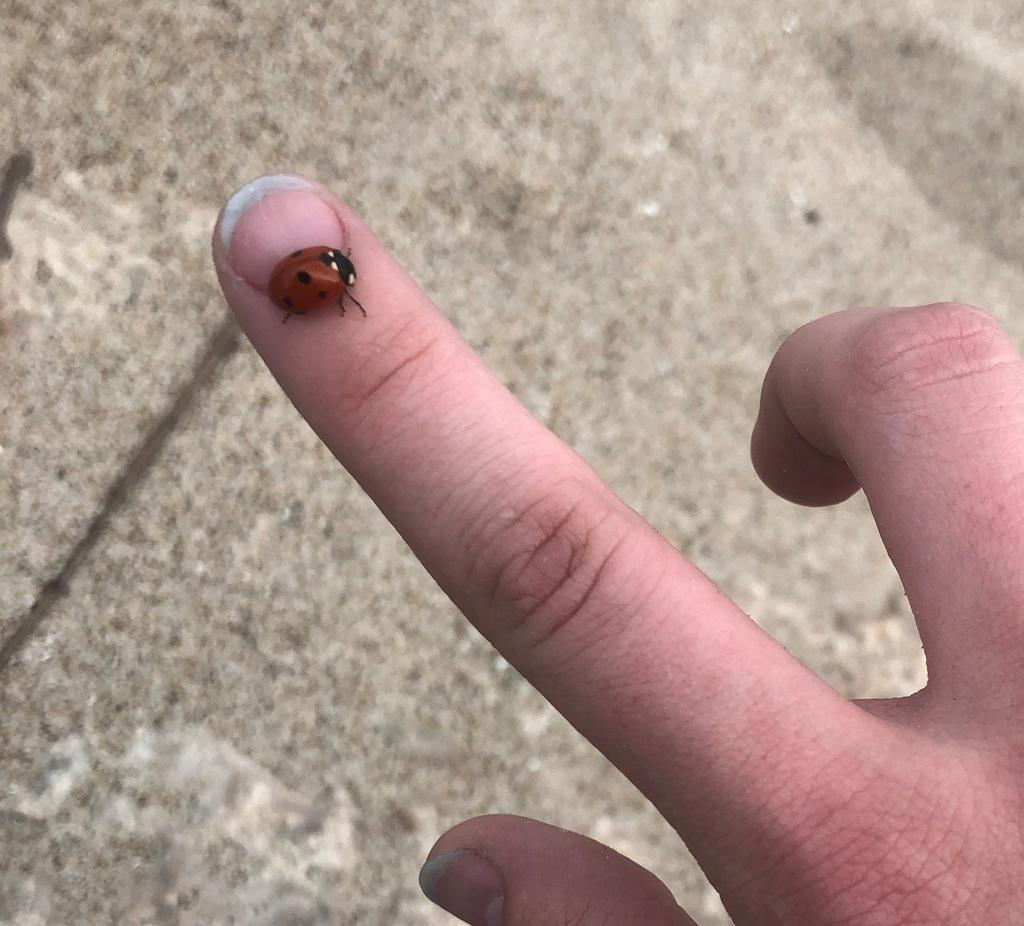ladybug: (264, 244, 371, 329)
